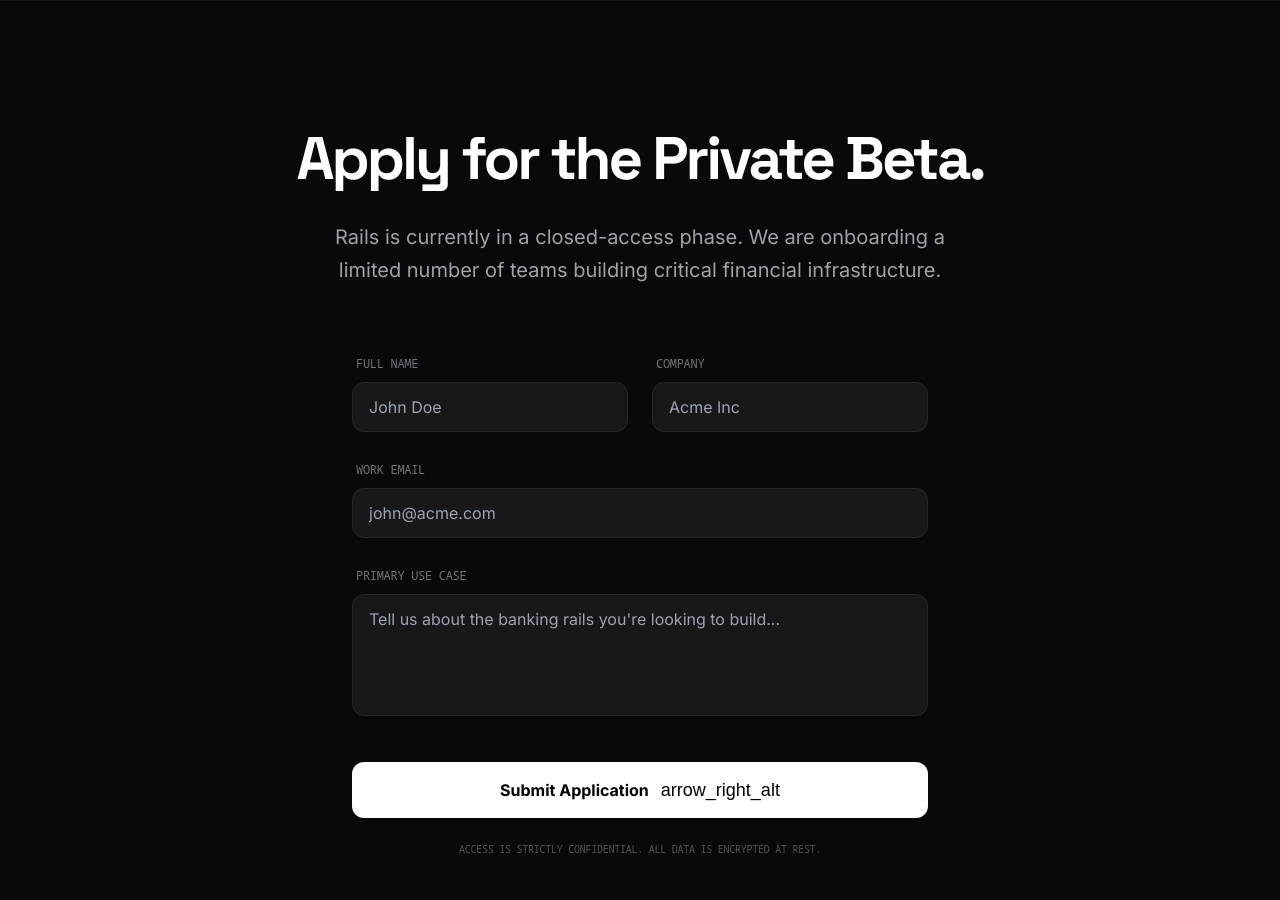
Scenario: BetaSignup › shows error message and keeps form visible on API failure
Step 1. Type "Jane" into the field with placeholder "John Doe" → (490, 407), box [352,382,628,432]
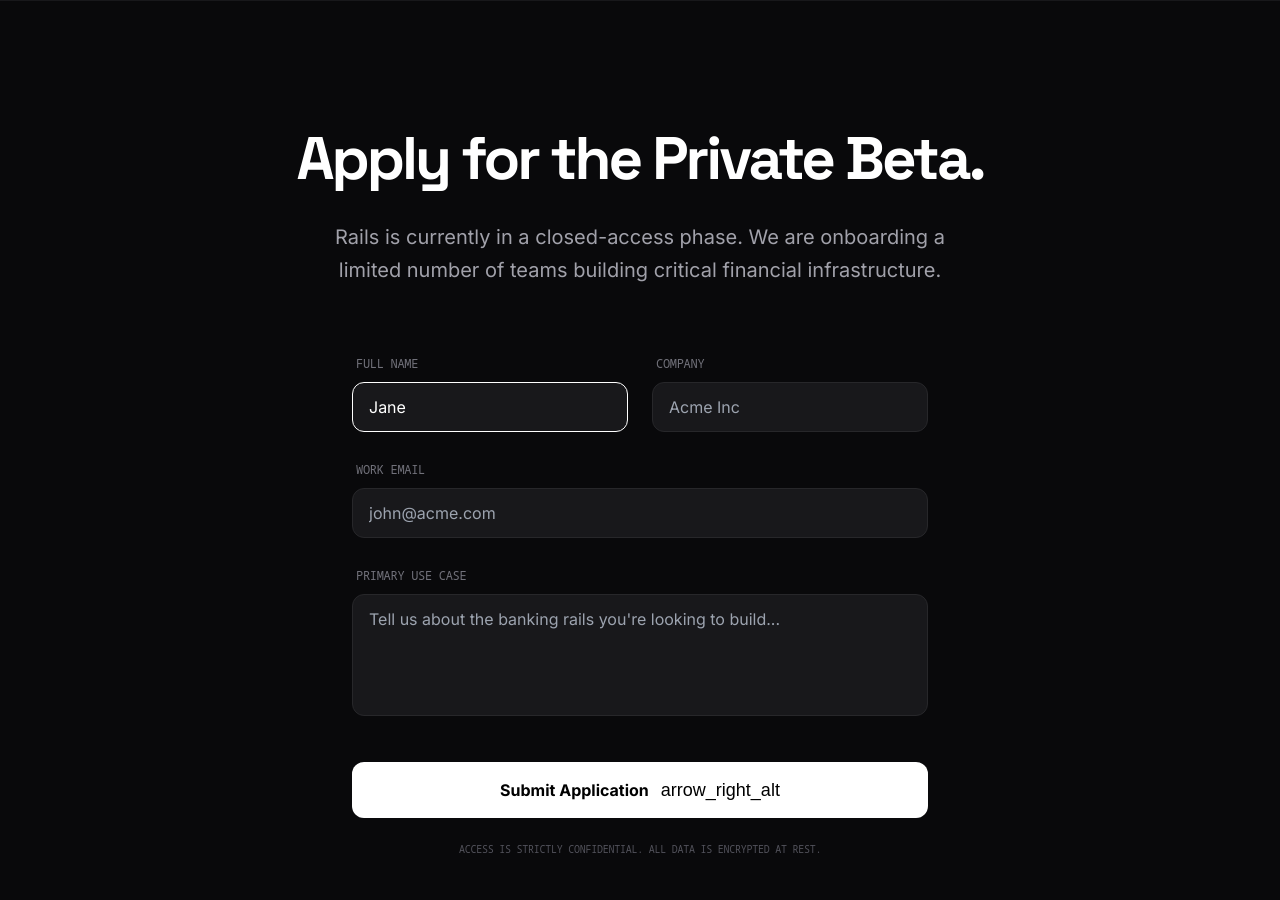
Step 2. Type "Acme" into the field with placeholder "Acme Inc" → (790, 407), box [652,382,928,432]
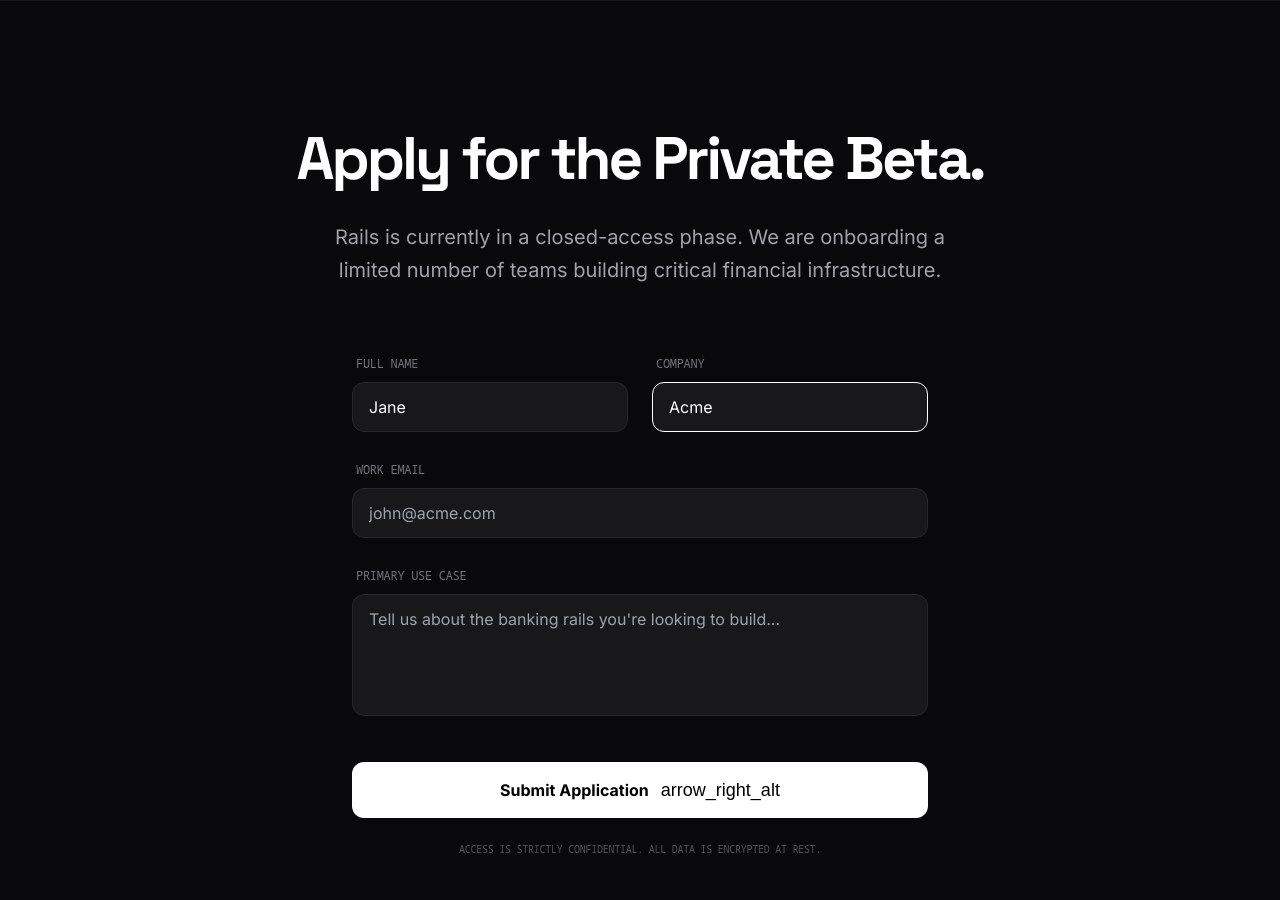
Step 3. Type "jane@acme.com" into the field with placeholder "john@acme.com" → (640, 513), box [352,488,928,538]
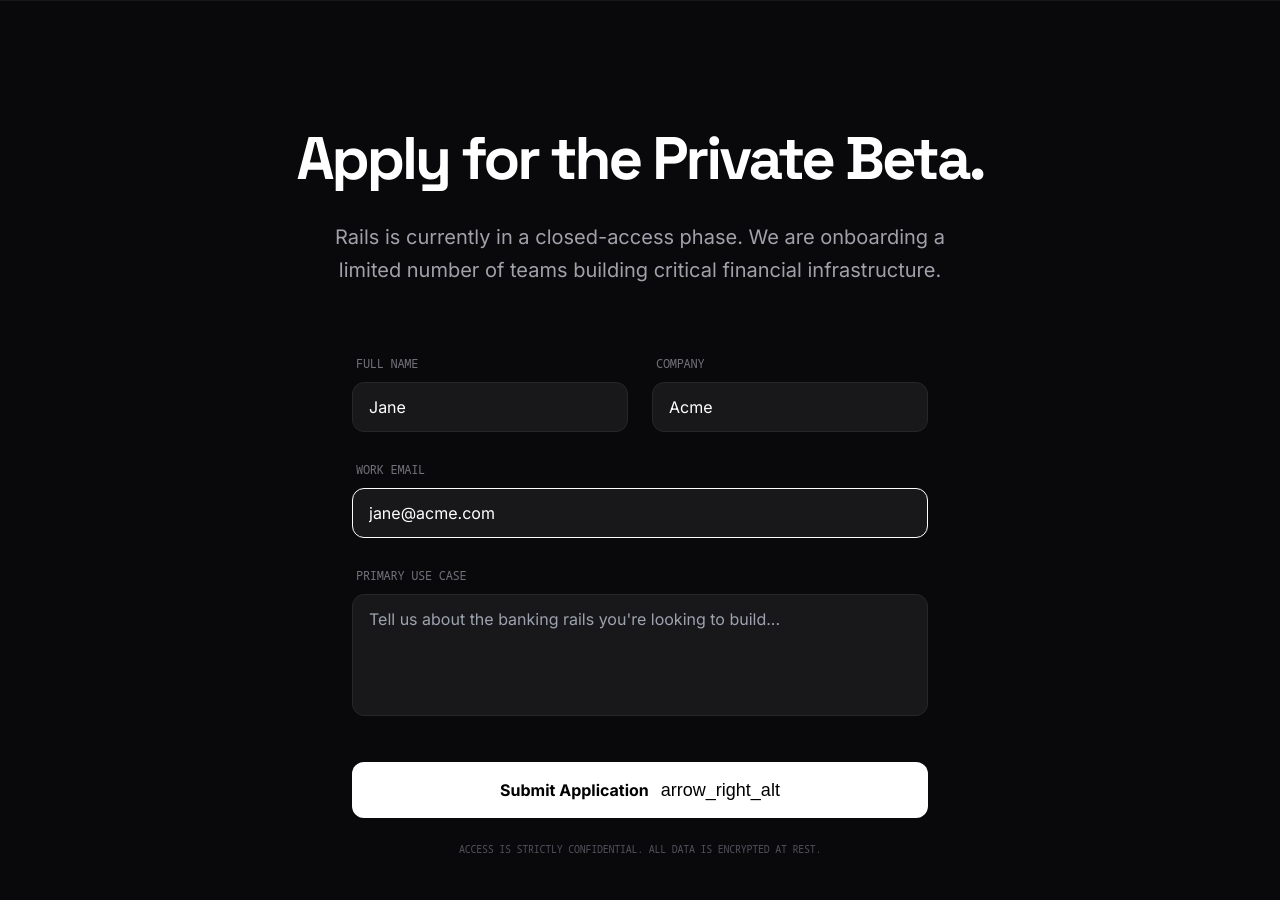
Step 4. Type "Payments" into the text box with placeholder "Tell us about the banking rails you're looking to build..." → (640, 655), box [352,594,928,716]
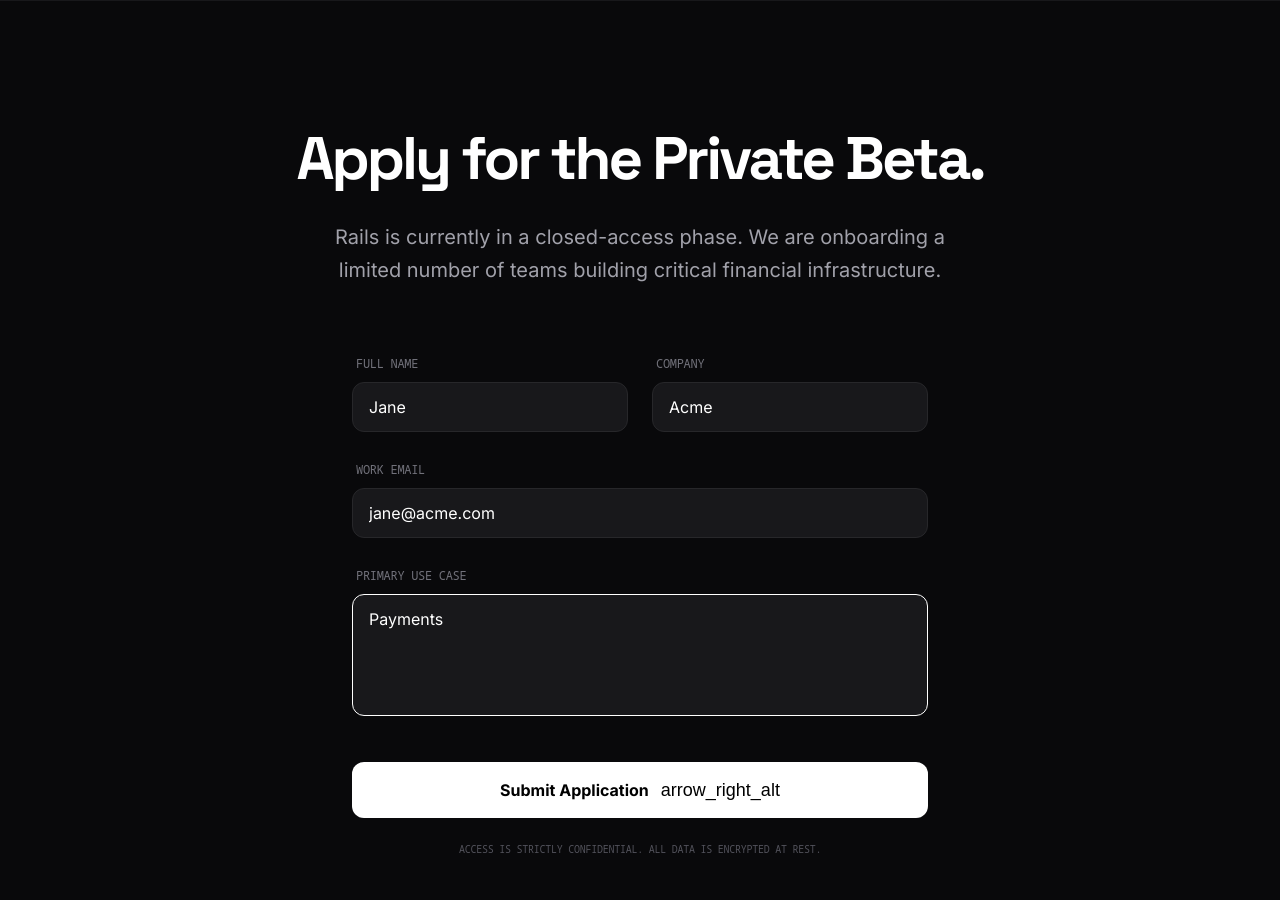
Step 5. Click the button "Submit Application" → (640, 790), box [352,762,928,818]
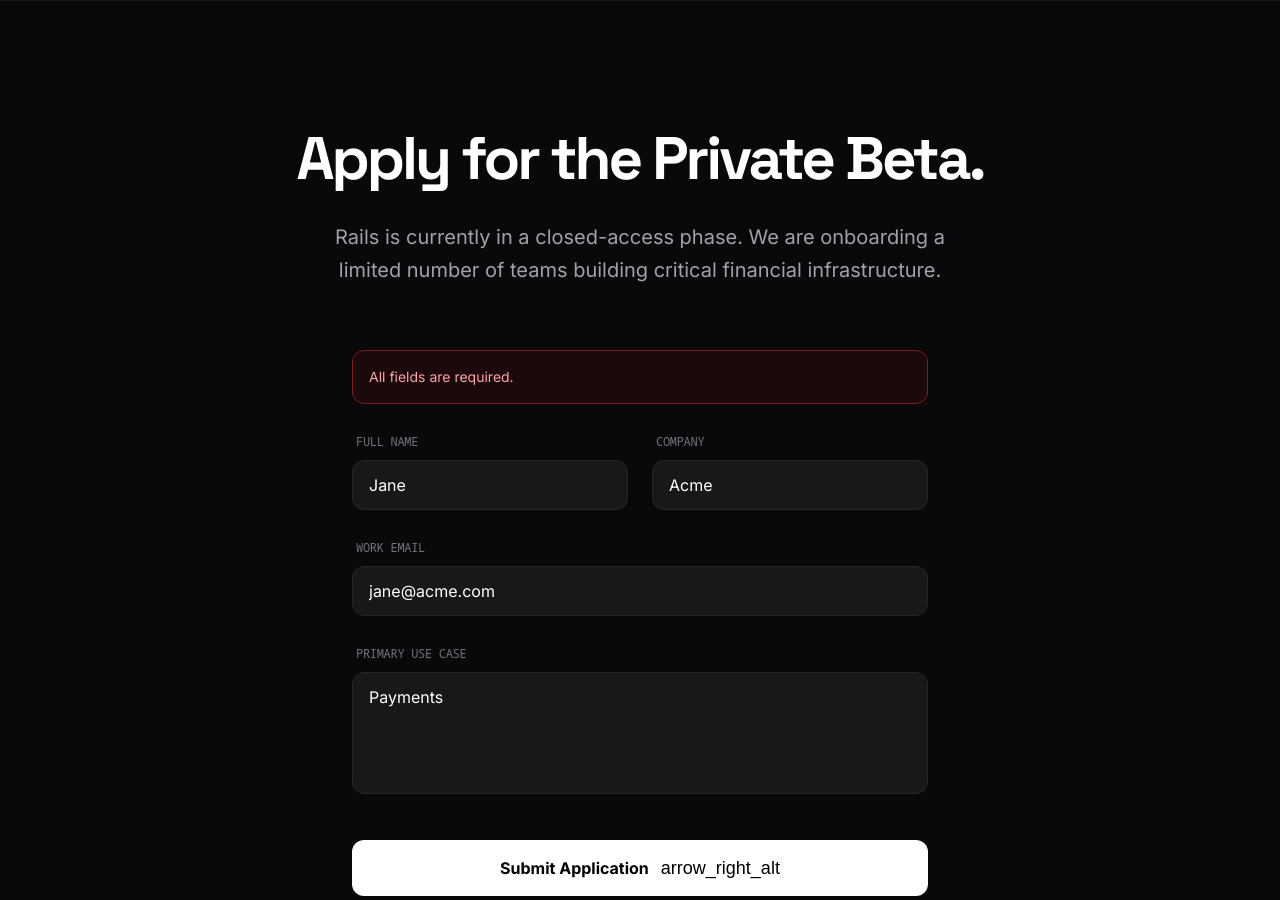
Expected: the button "Submit Application" is shown, [352,840,928,896]
Result: the message reads "All fields are required." at [369,368,514,385]
